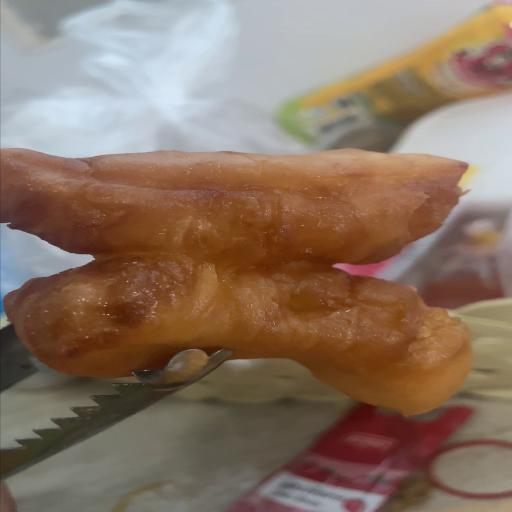street_burnt_good: (0, 148, 470, 413)
